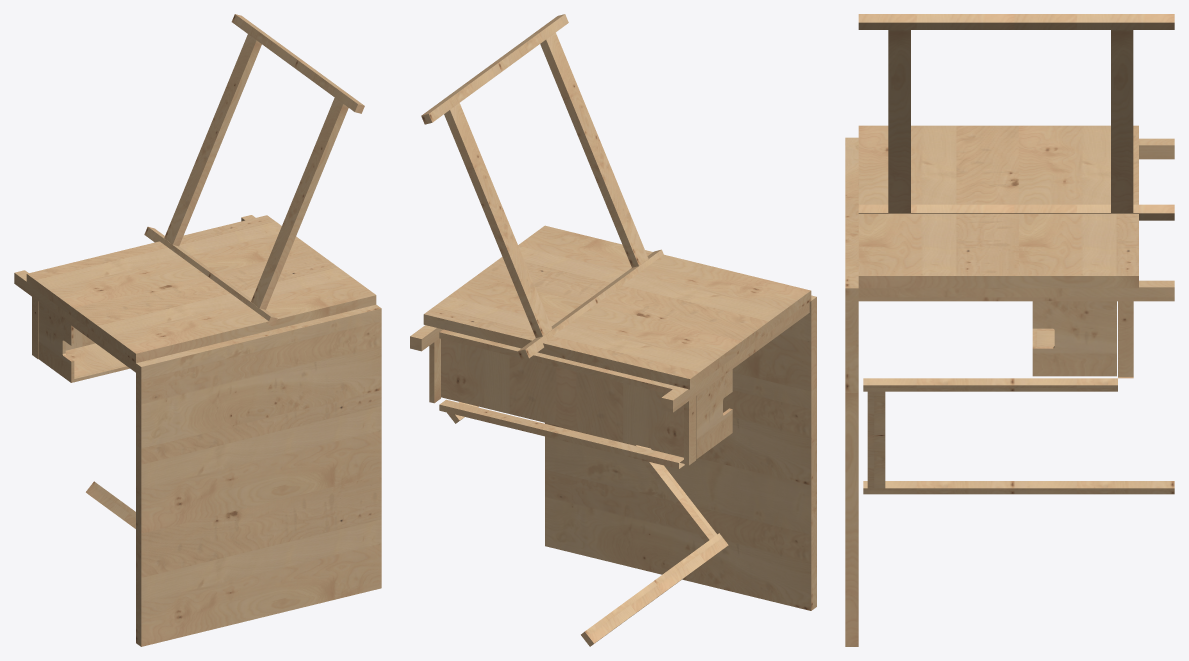
The model's file is IKEA+Norden+Fold+Table.glb.
The picture shows the model from 3 angles, left to right: view 1: azimuth 30°, elevation 25°; view 2: azimuth 150°, elevation 25°; view 3: azimuth 270°, elevation 25°; orthographic projection. The views are drawn at different scales.
Visible parts, largest first — view 1: group_12, group_11, group_7, group_1, group_2, Group_19, group_4, Group_21, group_3, group_13; view 2: group_12, group_11, Group_19 (×2), Group_8 (×2), group_1, group_2, group_7, group_13, group_4, Group_21, group_3, Group_11 (+1 smaller); view 3: group_11, Group_19, Group_21 (×2), group_4, group_13, group_1, group_2, group_7, group_14, group_12, group_3, Group_11 (+1 smaller).
Part boxes in pixels (box(x1,y1,x2,y2)): group_12: box(136, 390, 381, 646); group_11: box(26, 215, 376, 362); group_7: box(136, 304, 381, 448); group_1: box(251, 98, 348, 309); group_2: box(164, 34, 261, 246); Group_19: box(38, 301, 129, 382); group_4: box(231, 14, 364, 113); Group_21: box(14, 270, 135, 372); group_3: box(144, 226, 277, 326); group_13: box(86, 481, 135, 528); group_12: box(545, 372, 816, 610); group_11: box(423, 225, 811, 389); Group_19 (×2): box(441, 339, 732, 459); Group_8 (×2): box(439, 329, 684, 468); group_1: box(540, 32, 648, 267); group_2: box(444, 103, 552, 337); group_7: box(732, 295, 816, 391); group_13: box(581, 533, 728, 646); group_4: box(421, 14, 568, 124); Group_21: box(661, 302, 809, 412); group_3: box(518, 249, 663, 360); Group_11: box(628, 443, 716, 542); group_11: box(858, 125, 1138, 288); Group_19: box(1032, 301, 1116, 376); Group_21 (×2): box(858, 138, 1174, 301); group_4: box(858, 14, 1174, 29); group_13: box(863, 481, 1174, 494); group_1: box(888, 30, 910, 212); group_2: box(1111, 30, 1133, 212); group_7: box(845, 137, 858, 392); group_14: box(863, 378, 1117, 391); group_12: box(845, 393, 858, 646); group_3: box(858, 204, 1174, 220); Group_11: box(867, 391, 885, 488).
Size of the model in its own units: 31.5 by 60.69 by 29.13.
26 materials, 26 textured.
